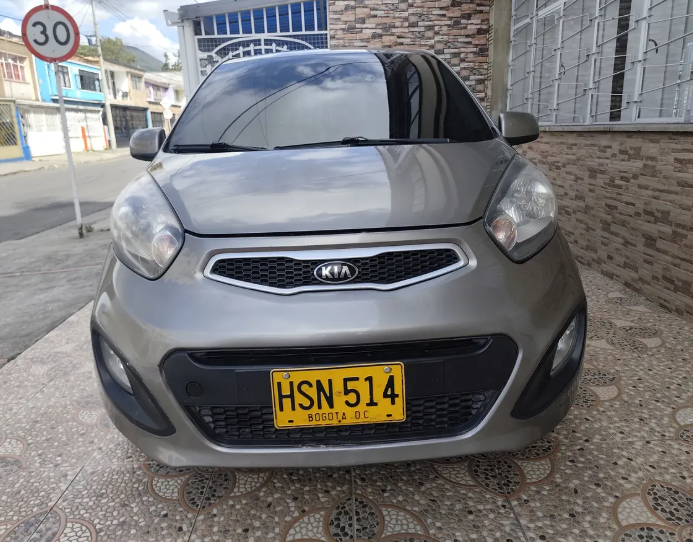placa: (271, 368, 407, 423)
